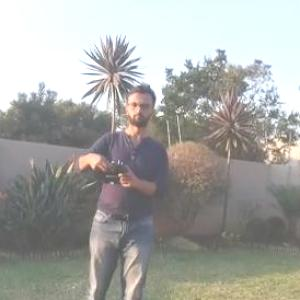follow: (66, 71, 172, 299)
